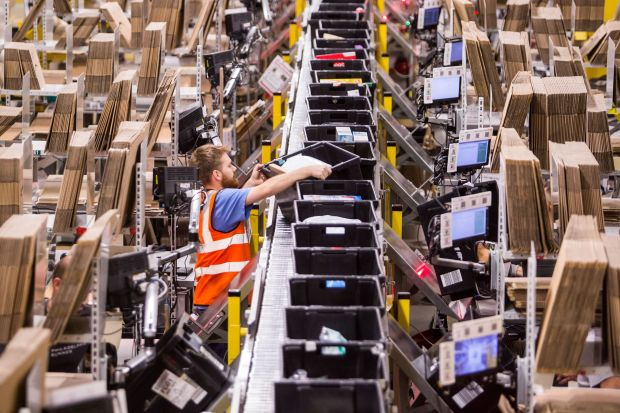noepi: (182, 142, 262, 299)
